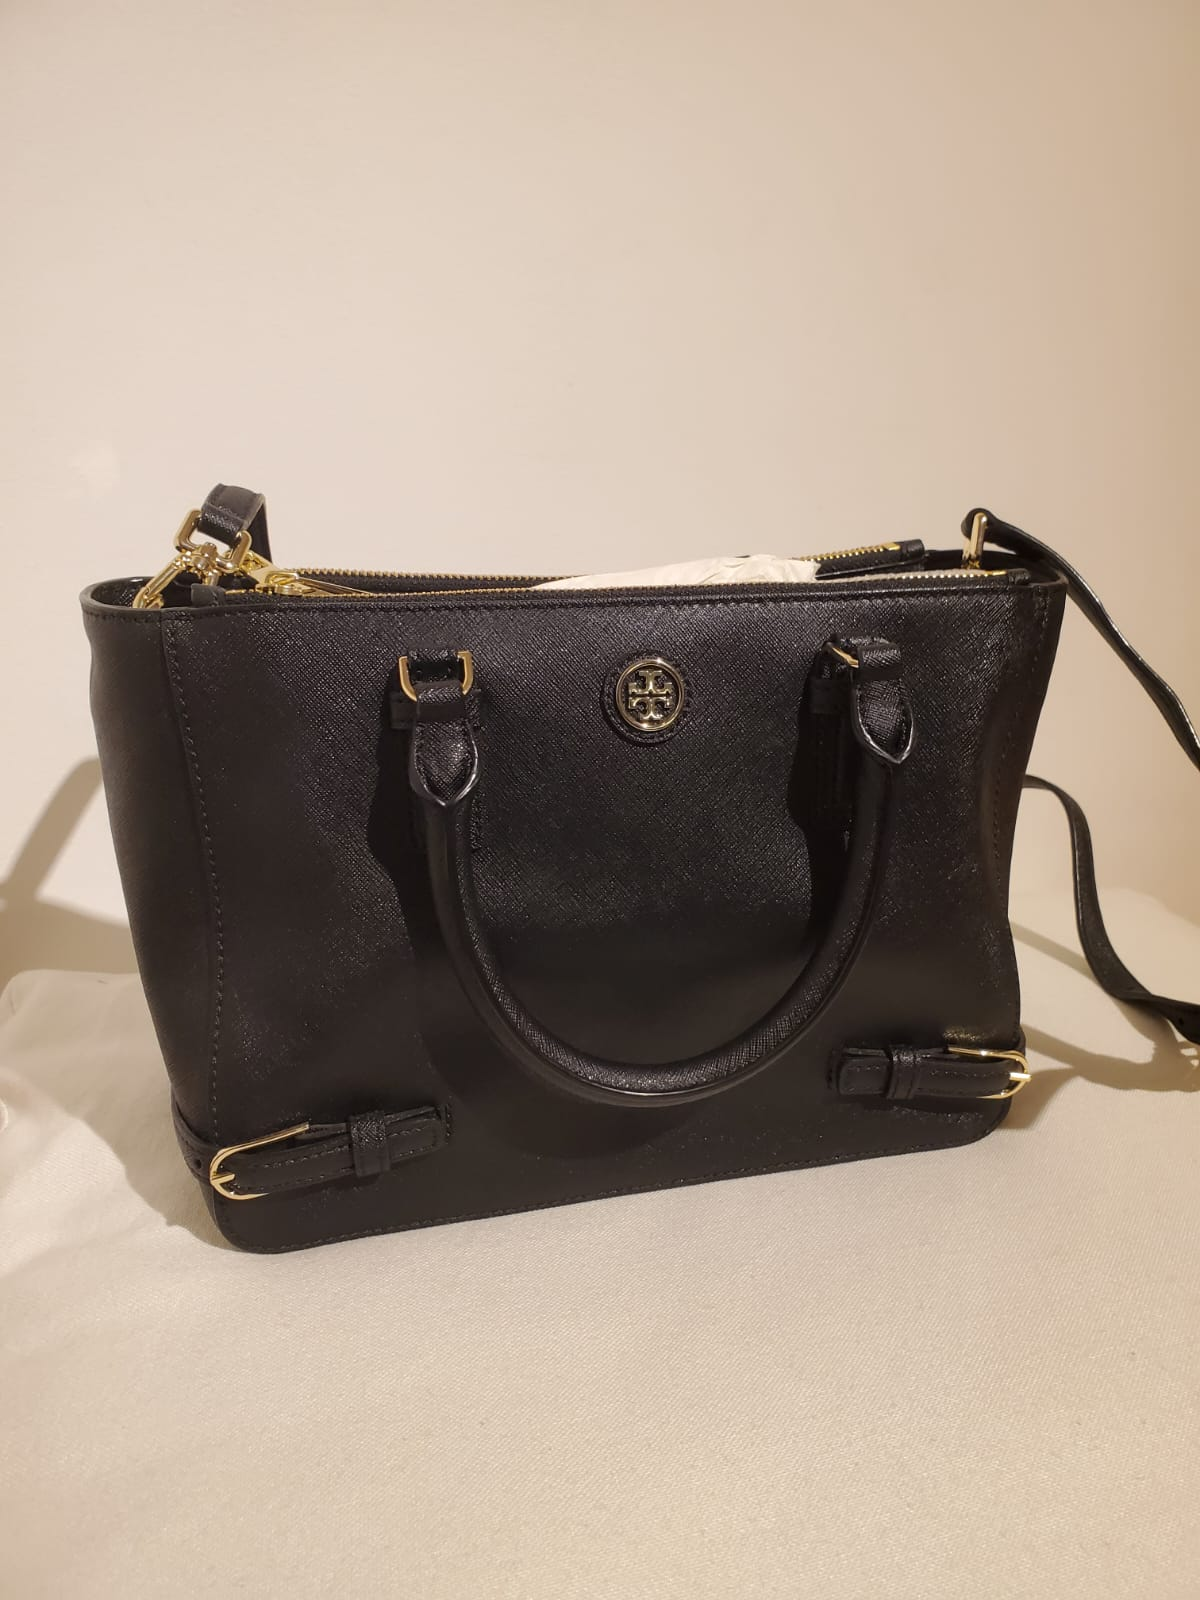cartera: (49, 443, 1170, 1288)
cuero: (221, 620, 958, 1150)
